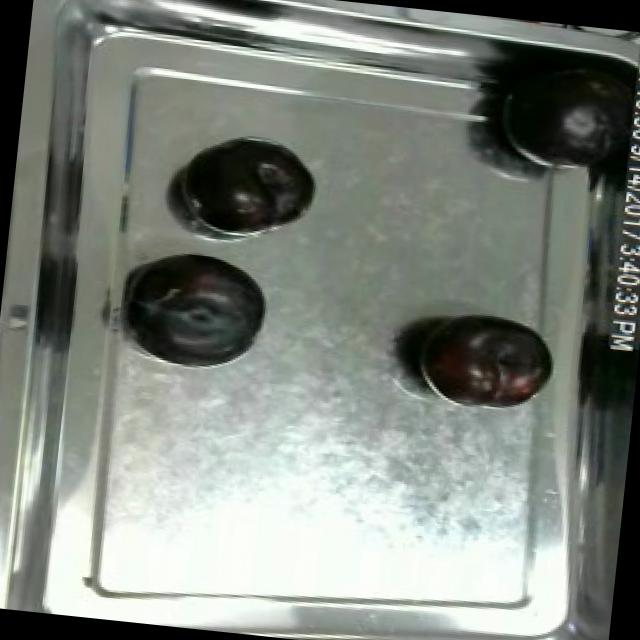Fruit: (119, 244, 276, 372), (404, 302, 560, 416), (180, 136, 323, 242)
